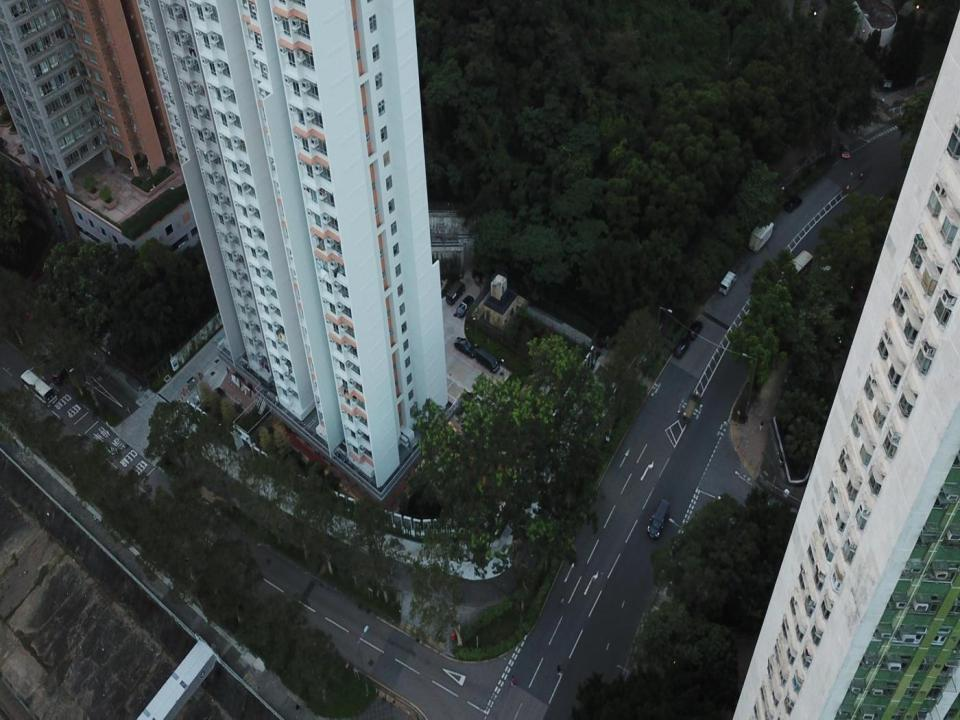bus: (20, 369, 57, 409)
car: (647, 499, 670, 539), (680, 394, 701, 422), (454, 337, 478, 358), (50, 359, 68, 385), (455, 295, 474, 319), (784, 195, 802, 213), (686, 321, 702, 340), (673, 339, 689, 358), (264, 390, 279, 407), (840, 142, 850, 159)
truck: (768, 249, 813, 288), (748, 218, 774, 252)
van: (476, 348, 500, 373), (446, 281, 466, 306), (718, 270, 736, 294)
